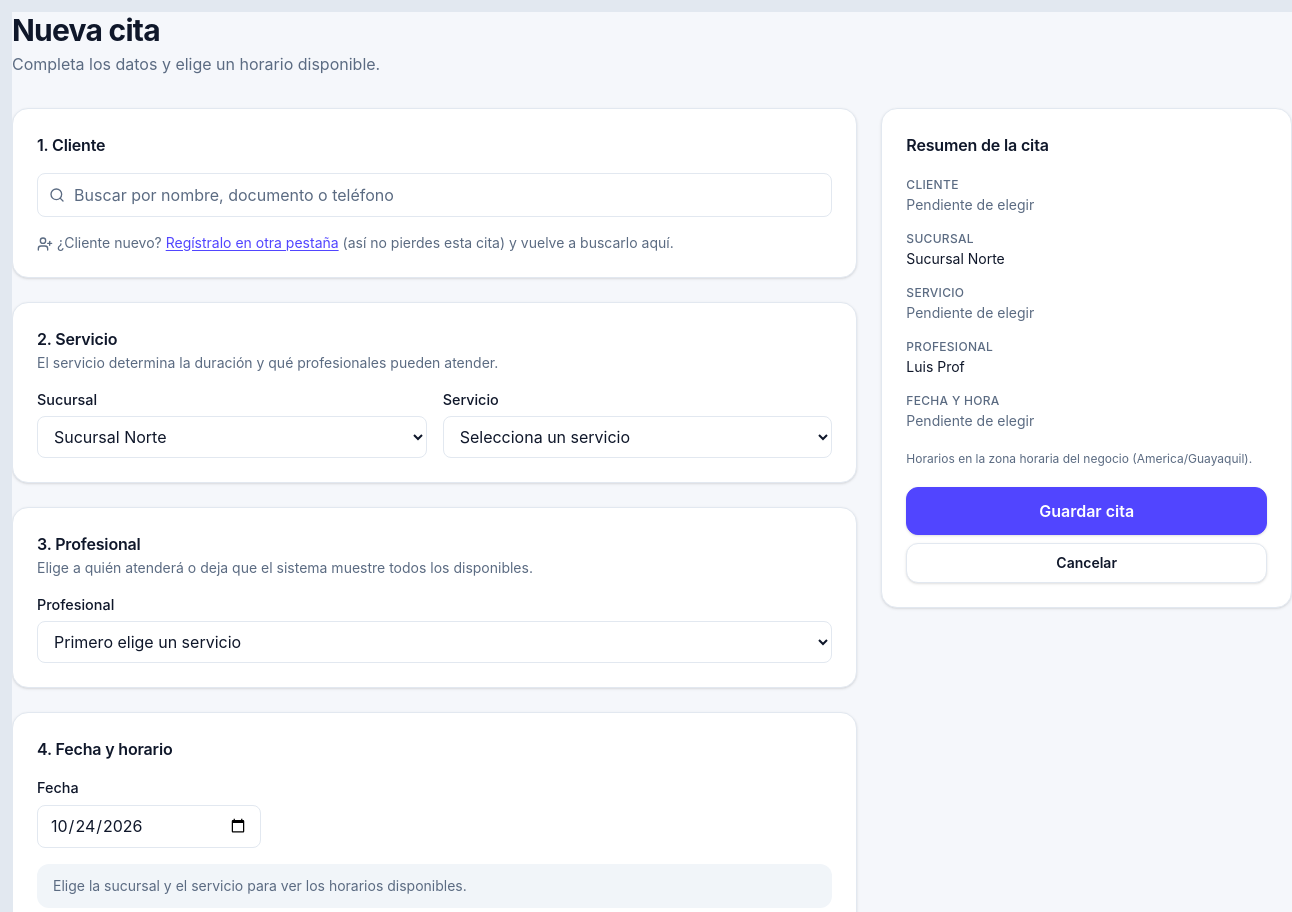
Test: BookAppointmentPage (Nueva cita) › precarga fecha, hora y profesional recibidos desde la Agenda
Select "Corte (30 min)" in the dropdown labelled "Servicio" at (638, 437), box [443,416,832,458]
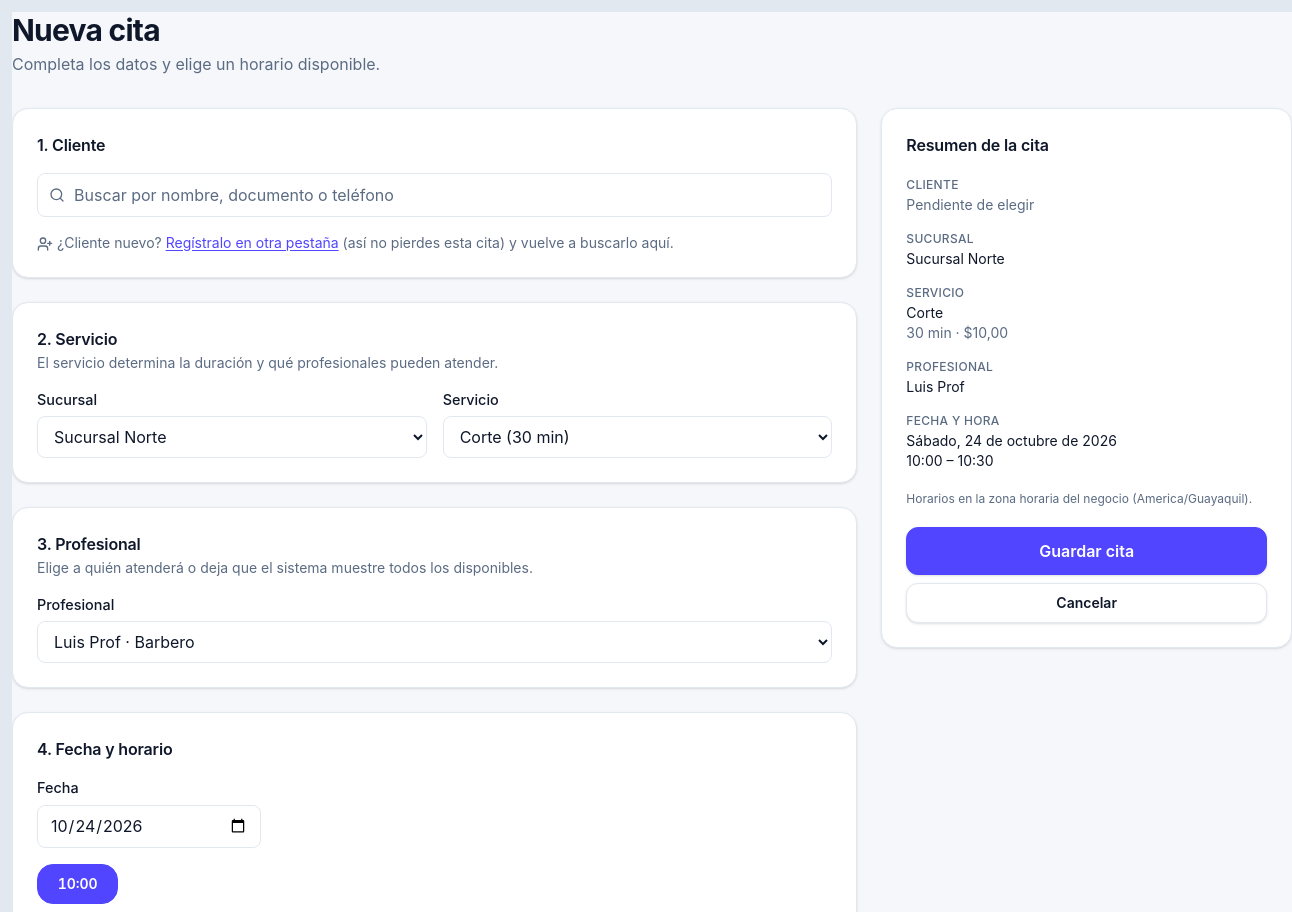
Check: the text "Luis Prof" is shown, box [906,378,965,395]
Check: the dropdown labelled "Profesional" shows "Luis Prof · Barbero", box [37,621,832,663]
